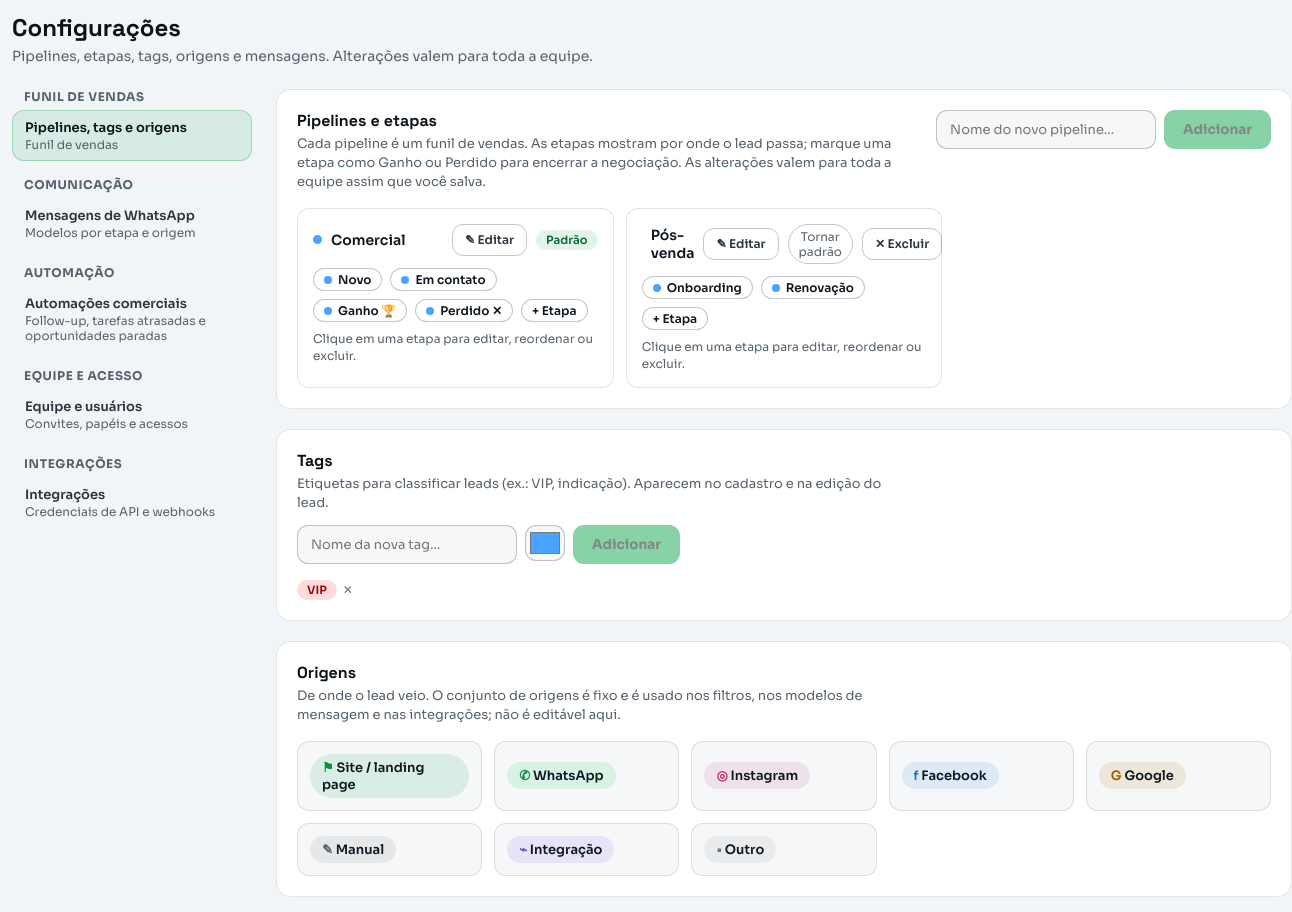
Test: F-25 etapas › criar etapa: nome + cor (sem Ganho/Perdido na criação — CFG-05)
Expected: the text "Comercial" is shown, [331,230,406,248]
Click the button "+ Etapa" below "Comercial". click: coordinates (554, 310)
box: [521,298,588,322]
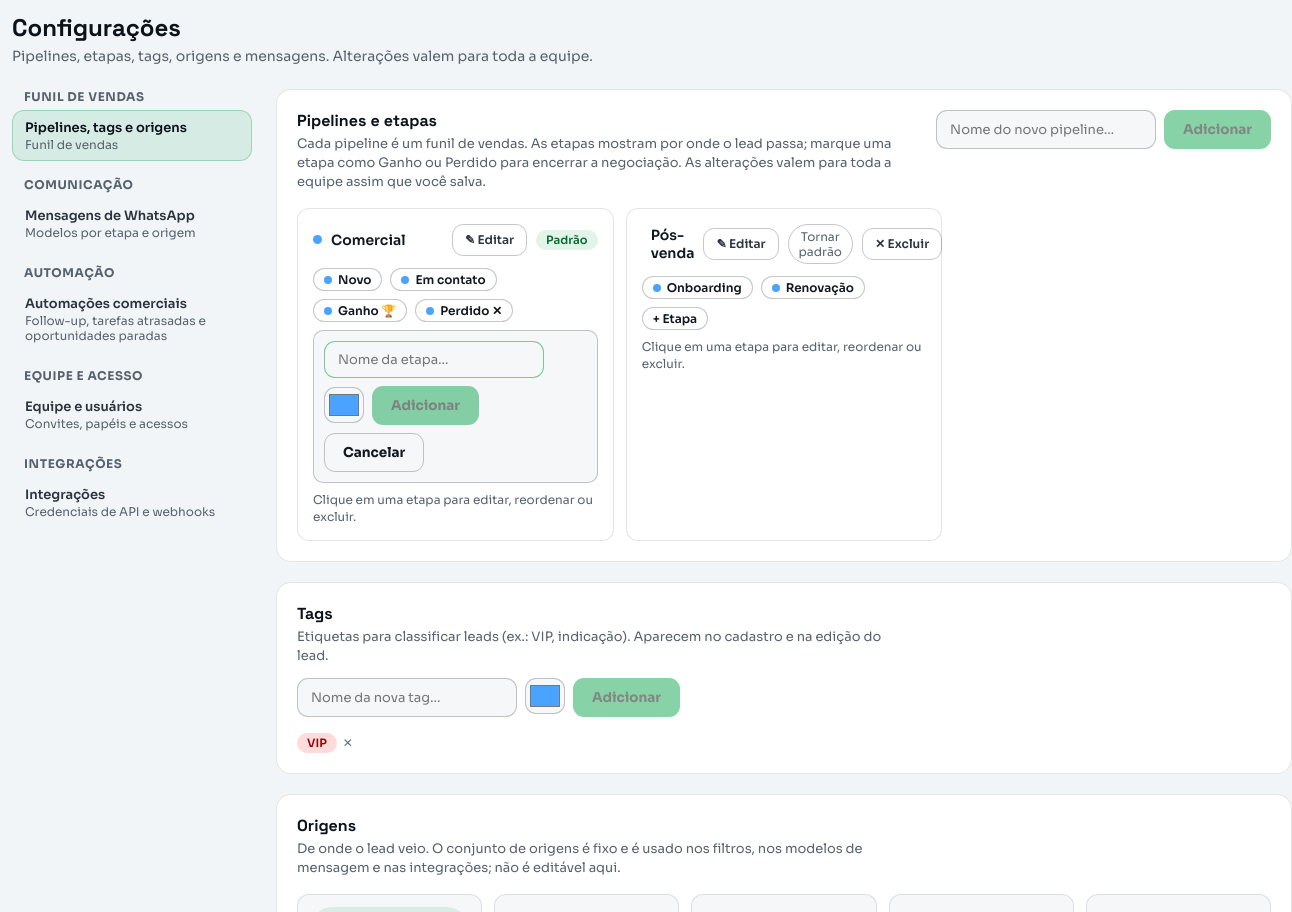
Type " Negociação " into the field with placeholder "Nome da etapa…". click: coordinates (434, 359)
box: [324,340,544,378]
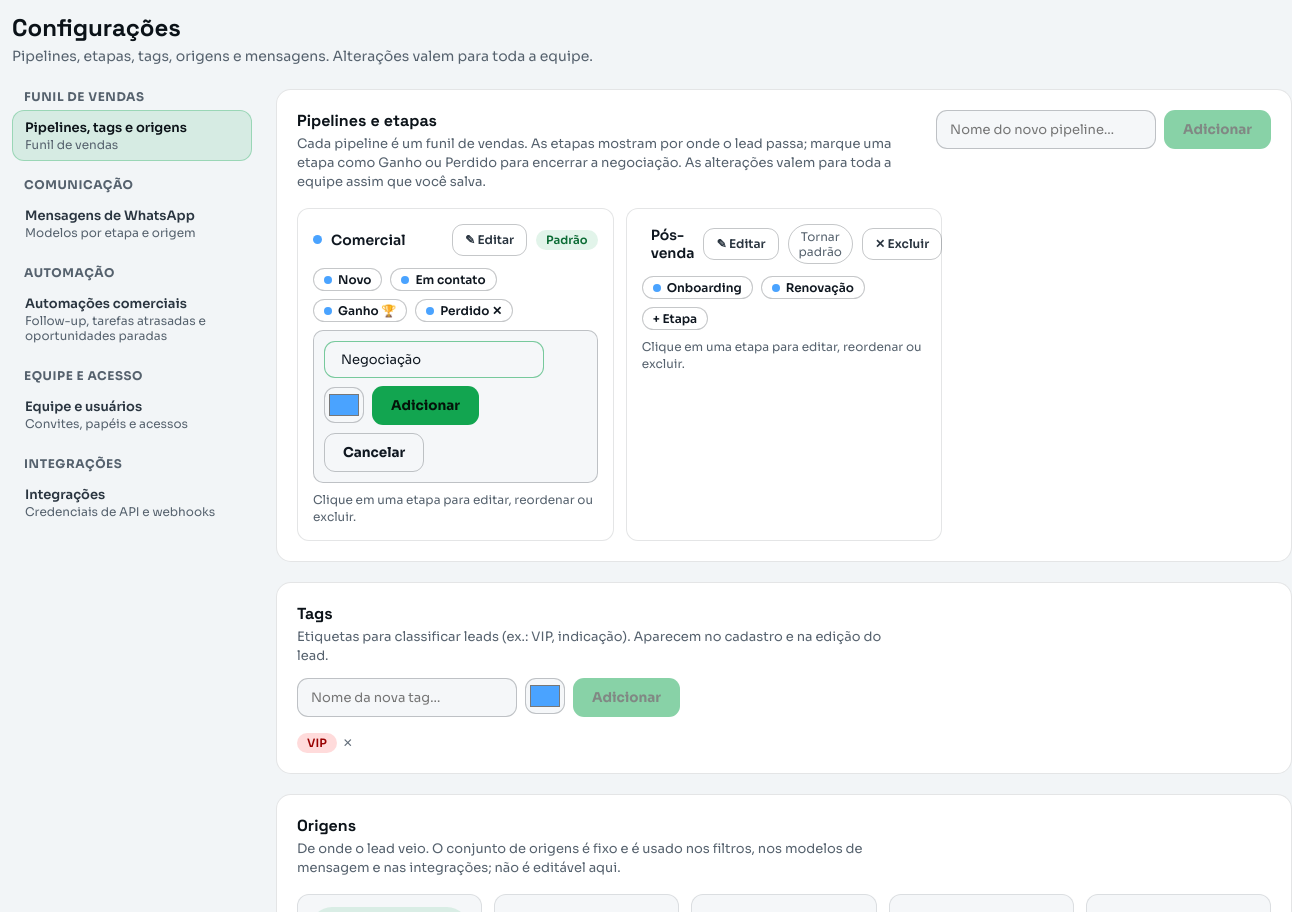
Click the button "Adicionar" below "Comercial". click: coordinates (425, 405)
box: [372,386,479,424]
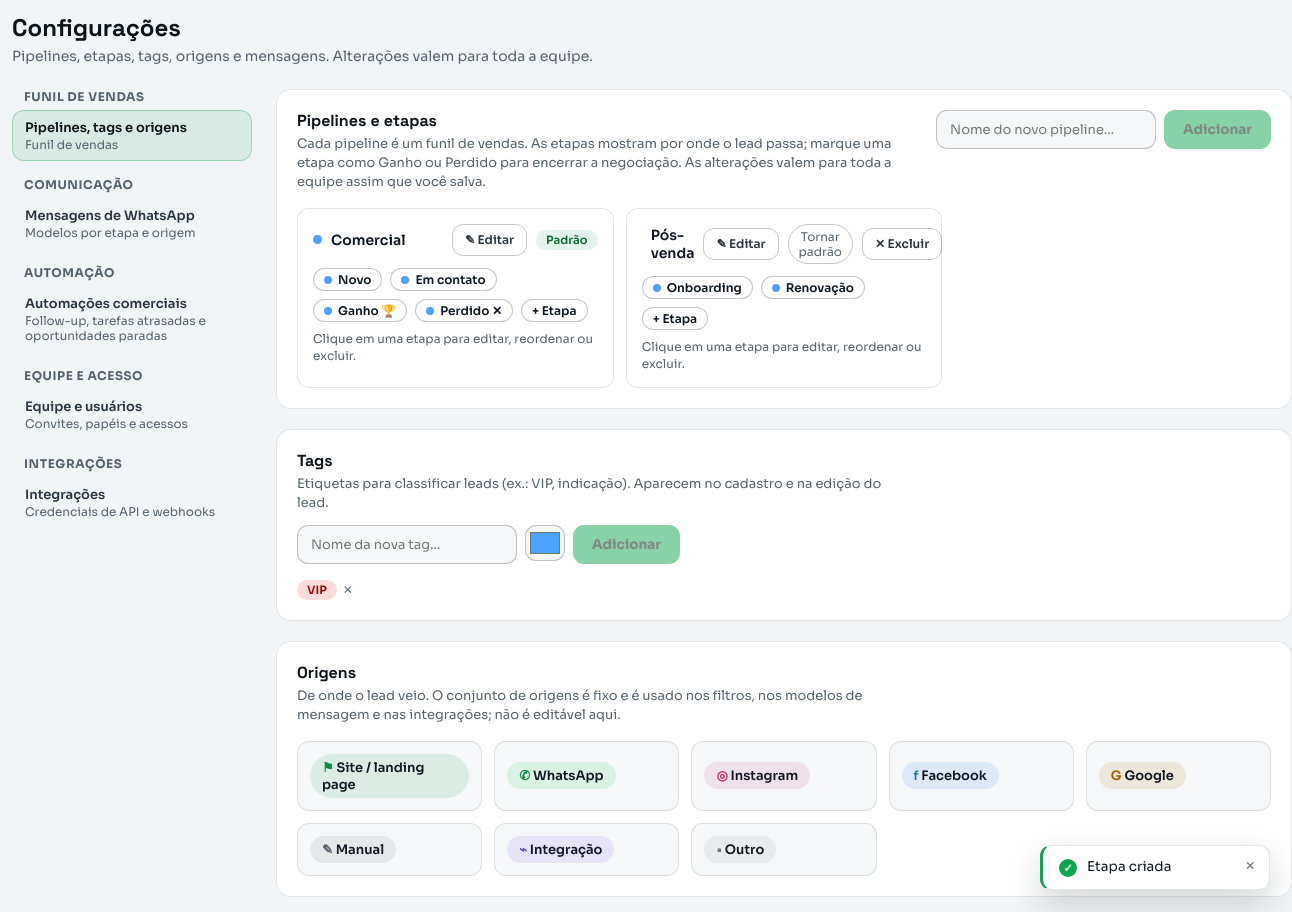
Result: the text "Etapa criada" is shown at [1087,858,1171,875]
